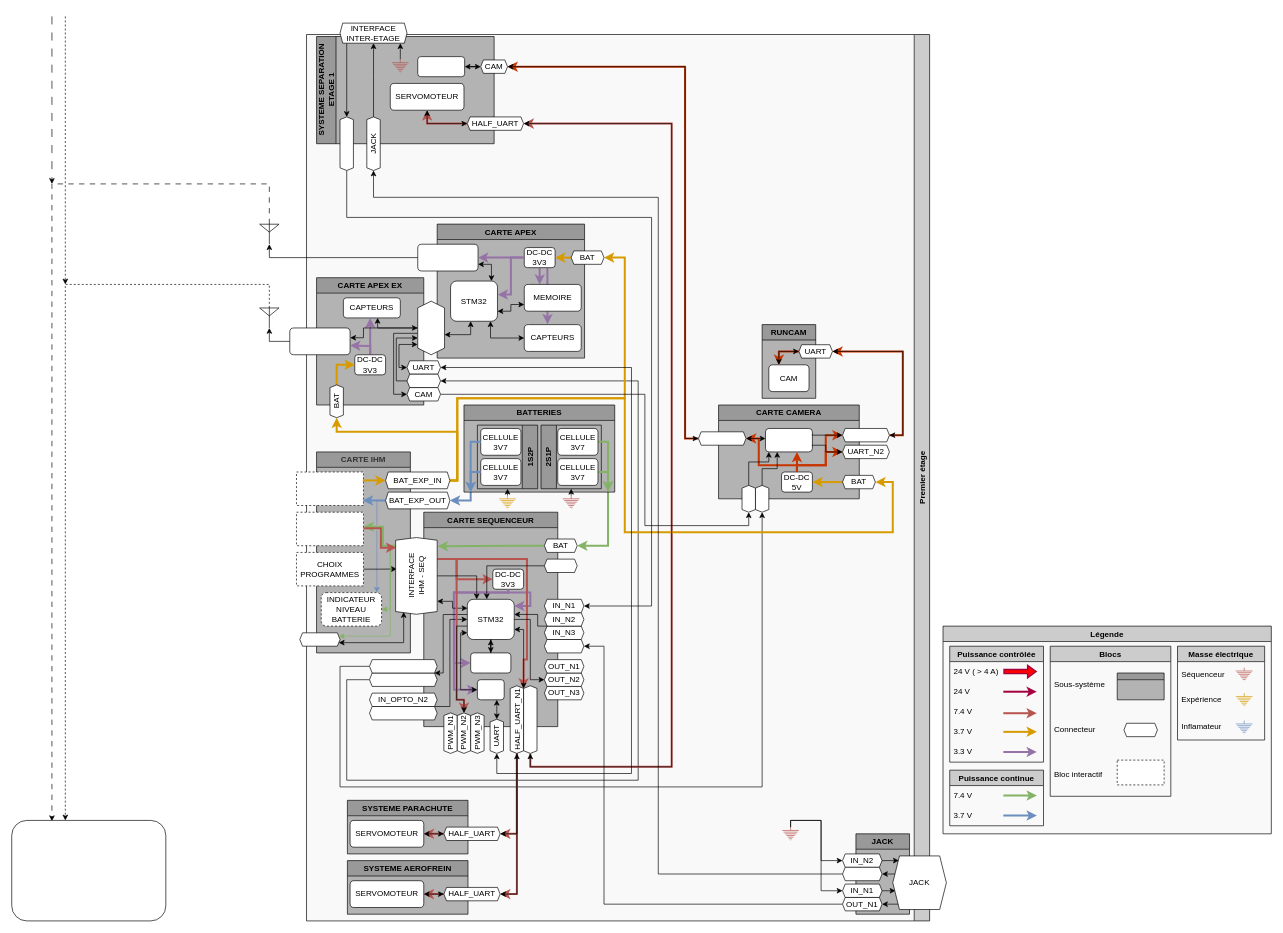
The diagram is 1283 pixels wide and 933 high, and some of its shapes have lost their labels. The shapes that lost their labels are listed below. From the top down, each one's centre as x and y in pixels, then its label:
the point at 441,66: CAMERA
the point at 346,143: ETAGE
the point at 447,257: TELEMESURE LORA
the point at 319,341: TELEMESURE GFSK
the point at 431,327: INTERFACE APEX
the point at 423,381: IRQ
the point at 722,438: ARDUCAM
the point at 788,440: ESP32
the point at 865,435: UART_N1
the point at 329,488: INTERRUPTEUR BAT EXP
the point at 748,498: APEX
the point at 762,498: SEQ
the point at 329,529: INTERRUPTEUR BAT SEQ
the point at 560,565: USB
the point at 319,639: ECRAN
the point at 564,646: IN_N4
the point at 403,666: OUT_OPTO_N1
the point at 403,679: OUT_OPTO_N2
the point at 490,662: WT901B
the point at 490,689: UART ISO
the point at 403,713: IN_OPTO_N1
the point at 530,719: HALF_UART_N2
the point at 88,870: STATION SOL
the point at 862,874: OUT _N2
